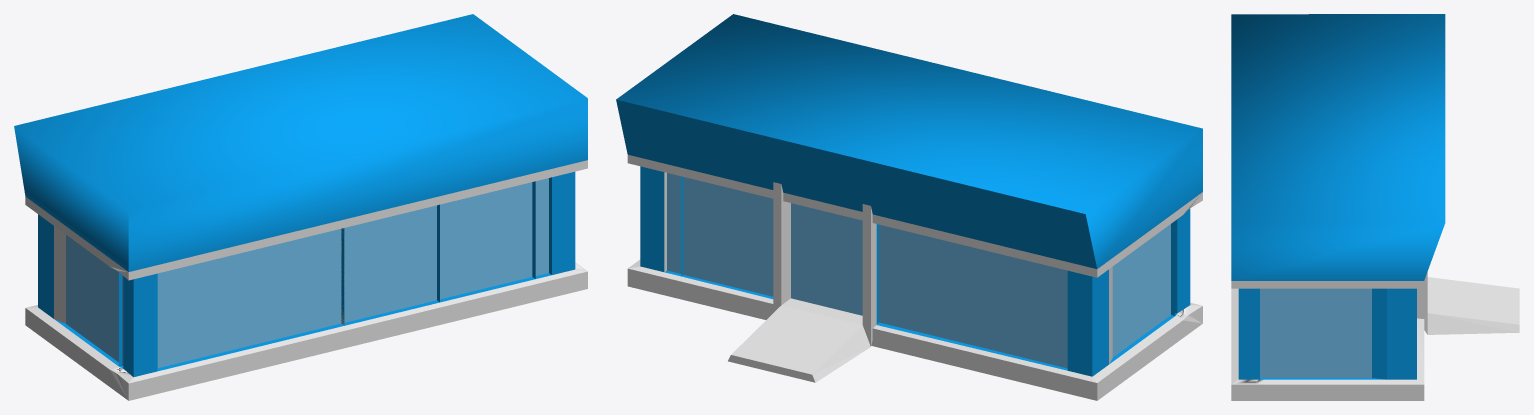
File: Shop5x2x2Blue.fbx
The picture shows the model from 3 angles, left to right: view 1: azimuth 30°, elevation 25°; view 2: azimuth 150°, elevation 25°; view 3: azimuth 270°, elevation 25°; orthographic projection. The views are drawn at different scales.
Parts seen in each view (by area): view 1: Shop.002; view 2: Shop.002; view 3: Shop.002.
Part boxes in pixels (left/top/right/bottom): Shop.002: left=14, top=14, right=587, bottom=400; Shop.002: left=616, top=14, right=1202, bottom=400; Shop.002: left=1231, top=14, right=1519, bottom=400.
Size of the model in its own units: 4.99 by 1.98 by 2.91.
Materials: 1 (1 with a texture image).
